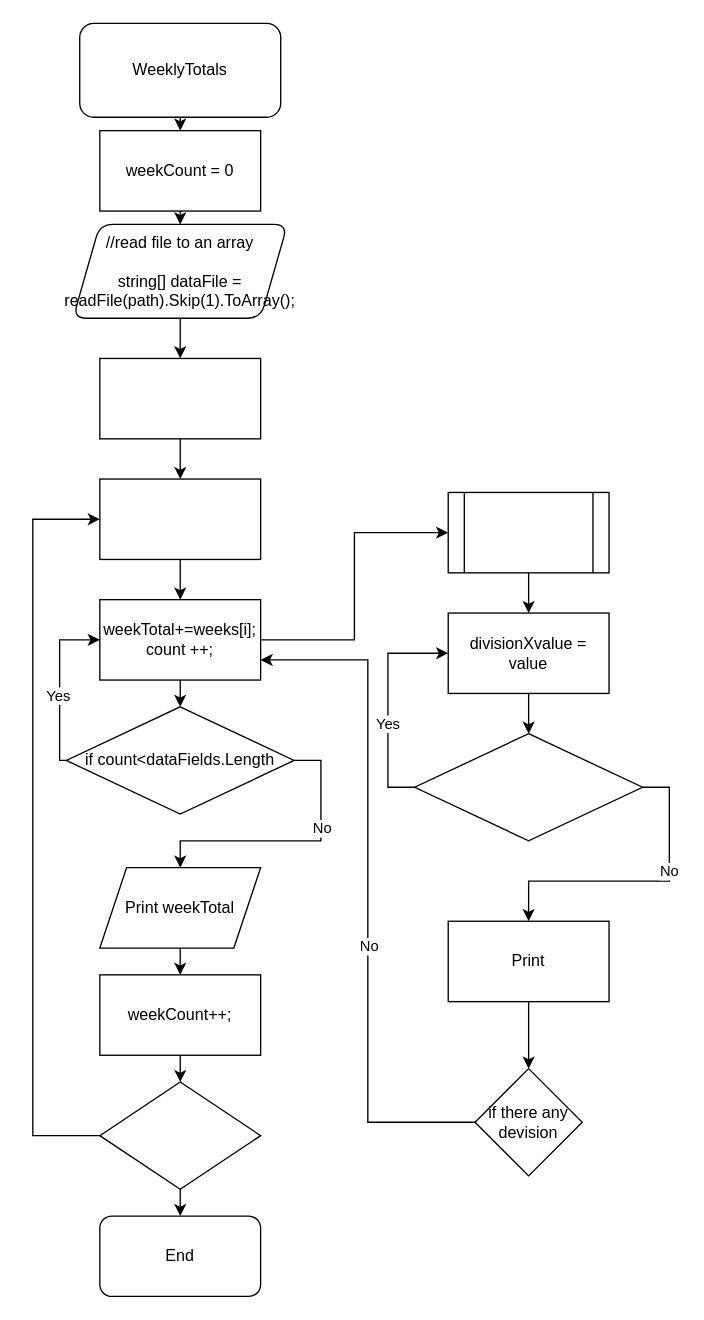
Some shapes in this 704 by 1320 pixel diagram are drawn without their labels. Each missing label, with the box of its shape:
devision set to index 0: (447, 491, 609, 573)
Extract from data to array called 'weeks' with the size of dataFile.length: (98, 478, 261, 559)
if divisionXnumber>value: (413, 732, 643, 841)
if weekCount<6: (98, 1081, 261, 1189)
int count = 1; int weekTotal=0;: (98, 357, 261, 439)
